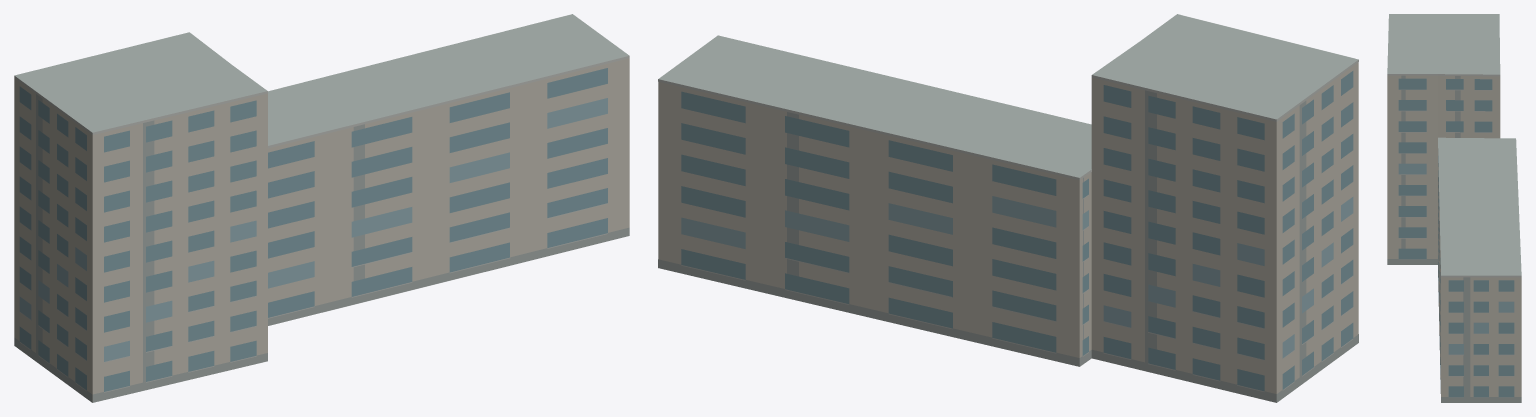
File: residential-a4ab9554-510b-4e75-bf63-8b193e96f306.glb
The picture shows the model from 3 angles, left to right: view 1: azimuth 30°, elevation 25°; view 2: azimuth 150°, elevation 25°; view 3: azimuth 270°, elevation 25°; orthographic projection. The views are drawn at different scales.
Parts seen in each view (by area): view 1: residential-a4ab9554-510b-4e75-bf63-8b193e96f306.tmp; view 2: residential-a4ab9554-510b-4e75-bf63-8b193e96f306.tmp; view 3: residential-a4ab9554-510b-4e75-bf63-8b193e96f306.tmp.
Part boxes in pixels (box(x1,y1,x2,y2)): residential-a4ab9554-510b-4e75-bf63-8b193e96f306.tmp: box(14, 14, 629, 402); residential-a4ab9554-510b-4e75-bf63-8b193e96f306.tmp: box(658, 14, 1358, 402); residential-a4ab9554-510b-4e75-bf63-8b193e96f306.tmp: box(1387, 14, 1521, 402).
Bounding box in the file's own units: 61.06 × 27.45 × 17.51.
